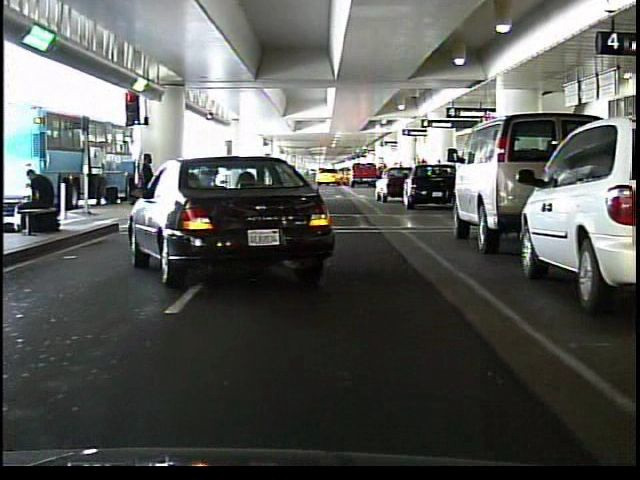person: (20, 165, 58, 240), (128, 150, 157, 231)
